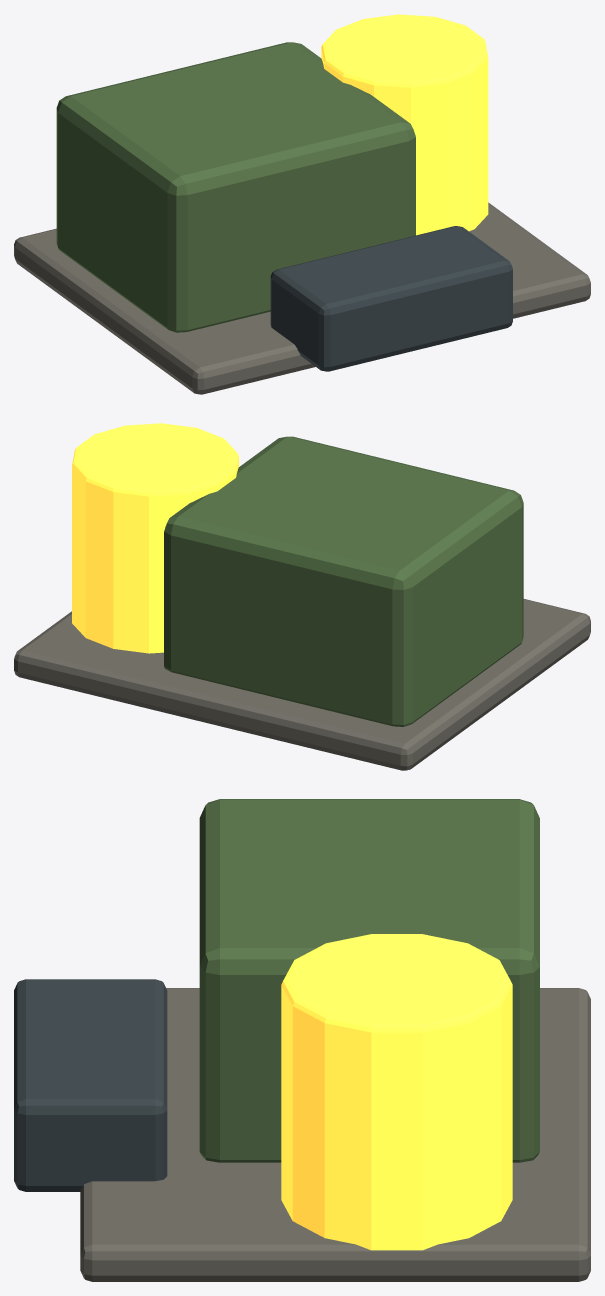
The model's file is human_refinery.glb.
The picture shows the model from 3 angles, top to bottom: view 1: azimuth 30°, elevation 25°; view 2: azimuth 150°, elevation 25°; view 3: azimuth 270°, elevation 25°; orthographic projection. The views are drawn at different scales.
Parts seen in each view (by area): view 1: ProcessingHall, Intake, OreDrum, Foundation; view 2: ProcessingHall, Foundation, OreDrum; view 3: ProcessingHall, OreDrum, Foundation, Intake.
Part boxes in pixels (<box>): ProcessingHall: <box>56,42,415,332</box>; Intake: <box>270,226,512,371</box>; OreDrum: <box>321,14,488,235</box>; Foundation: <box>14,202,590,394</box>; ProcessingHall: <box>164,436,523,726</box>; Foundation: <box>14,599,590,770</box>; OreDrum: <box>72,423,238,653</box>; ProcessingHall: <box>199,799,539,1162</box>; OreDrum: <box>281,934,512,1250</box>; Foundation: <box>80,988,590,1281</box>; Intake: <box>14,979,167,1191</box>.
Size of the model in its own units: 1.85 by 0.835 by 1.7.
